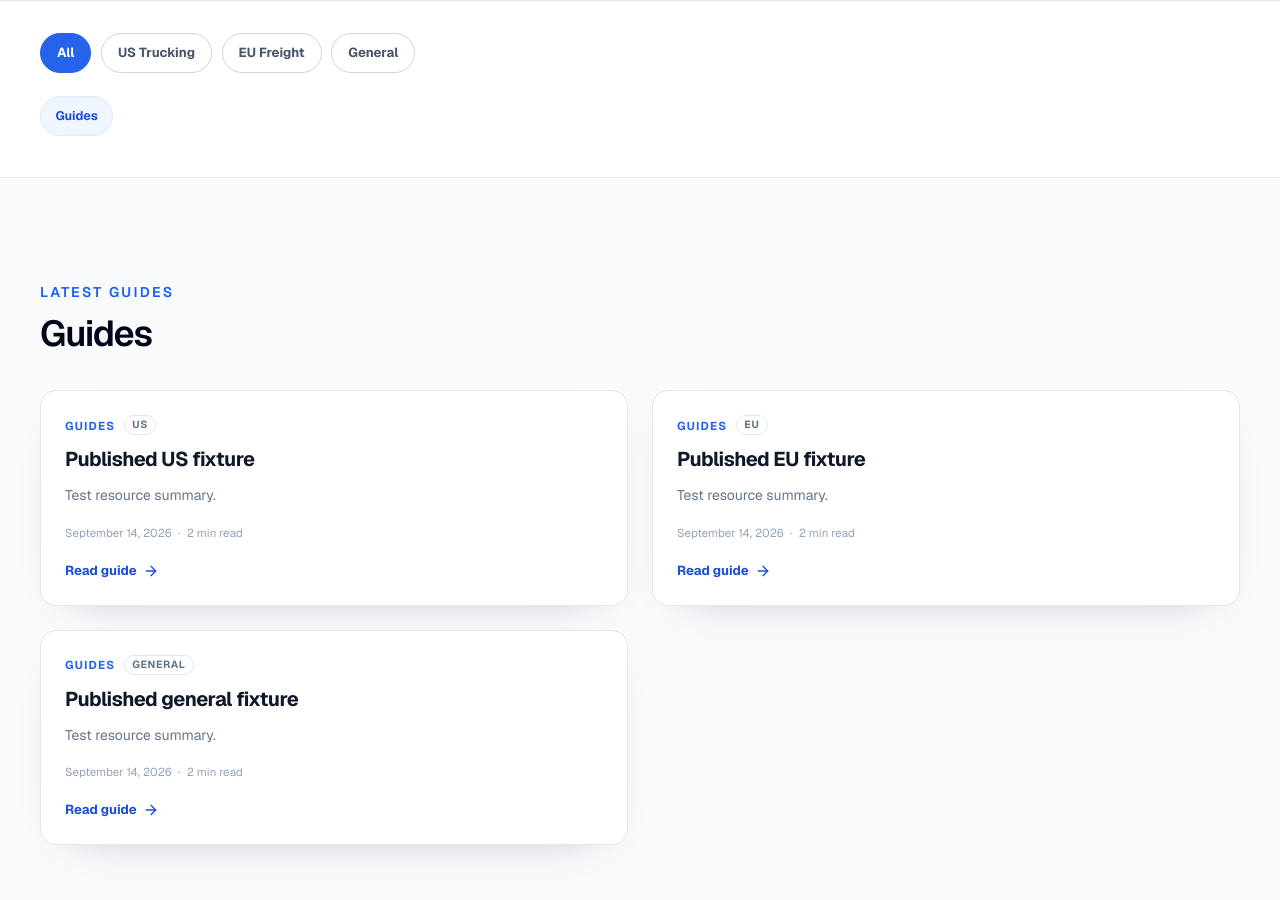
Test: resource content system › filters published resource fixtures by region without changing article links
This screenshot has width=1280, height=900.
Later steps or results of the test are not shown.
Click the button "EU Freight": x=272, y=53 [222, 33, 322, 73]
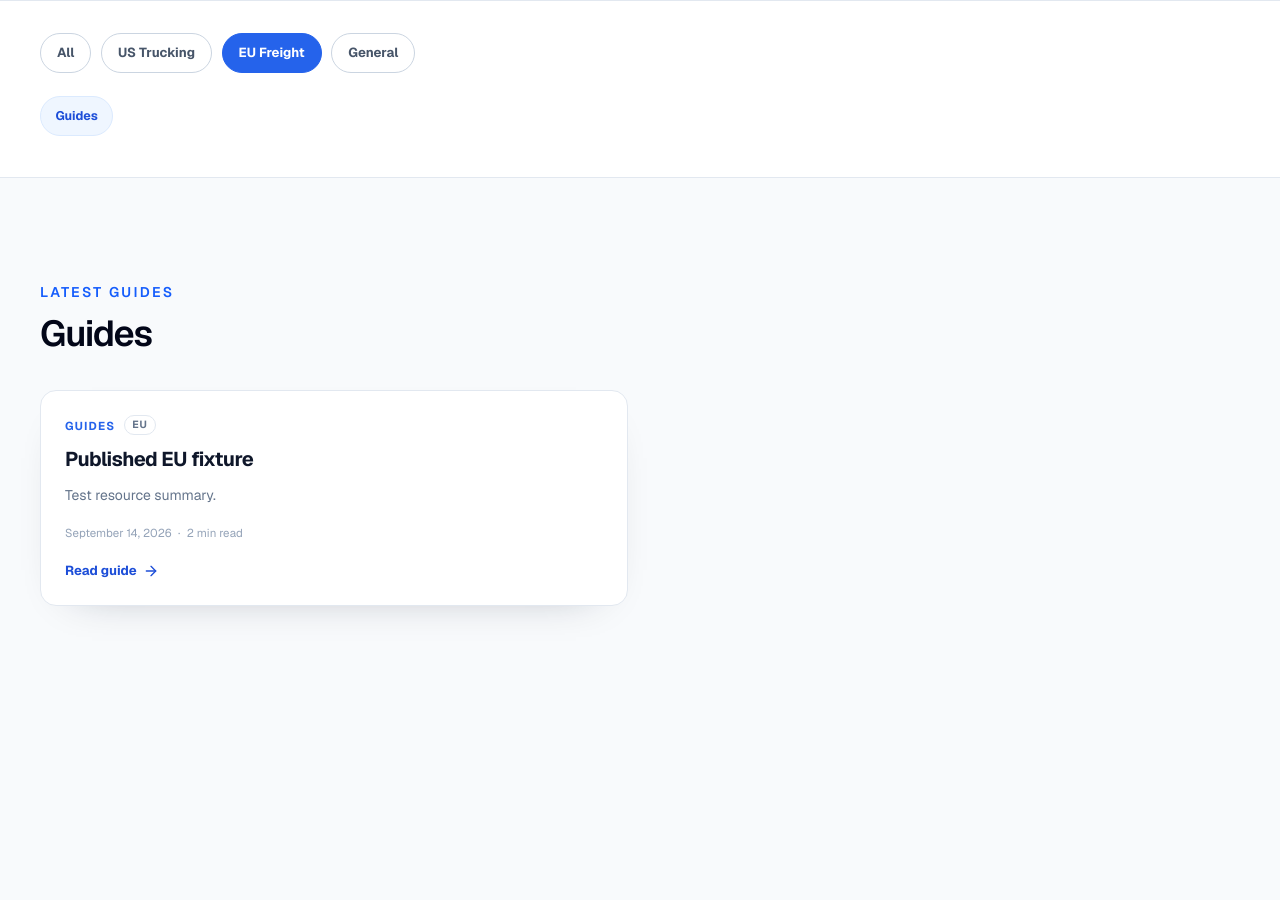
Expected: the link to "/resources/vat-on-freight-transport-invoices-eu" is shown, [65, 446, 253, 472]
Result: the link to "/resources/published-us-guide" is gone
